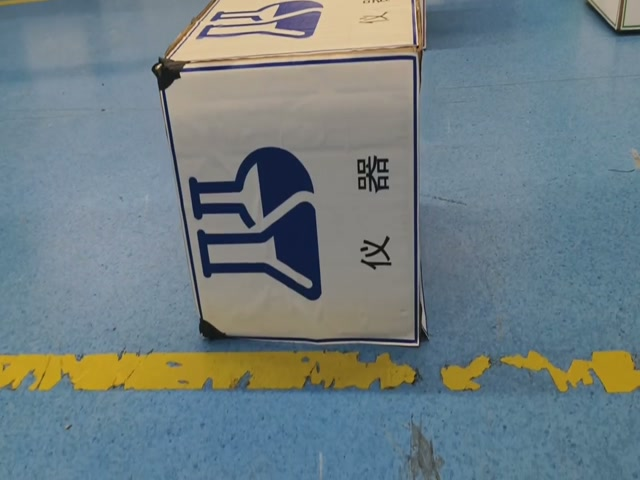Cube_ins: (147, 0, 426, 72)
